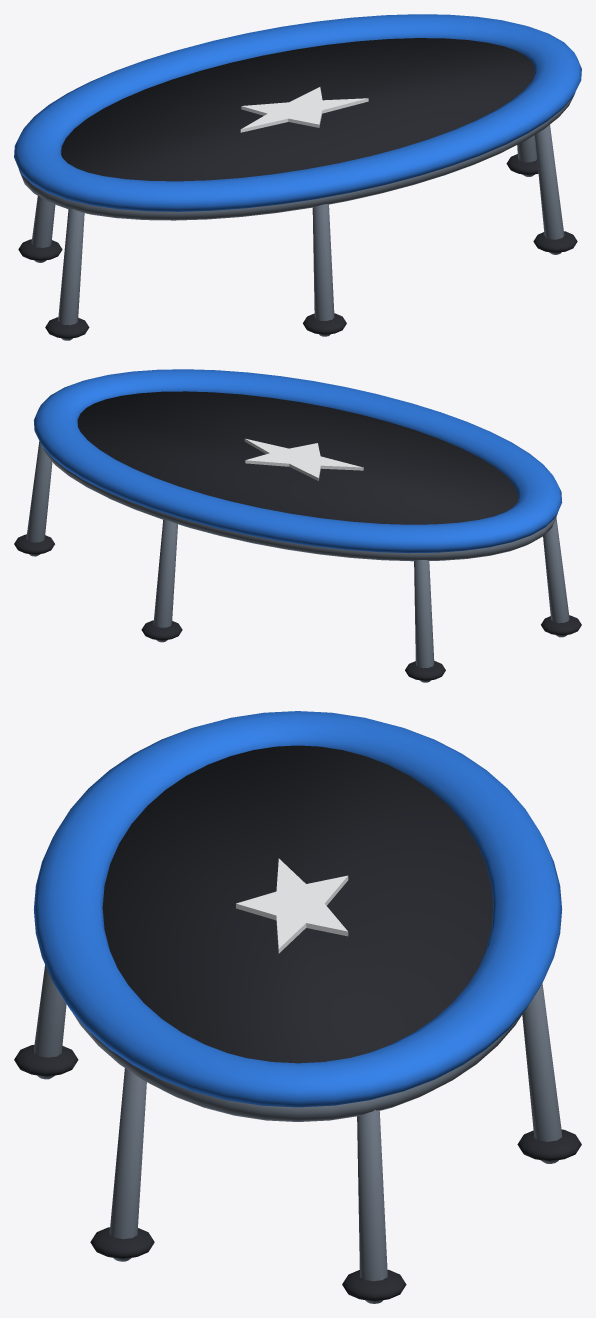
The model's file is trampoline.glb.
The picture shows the model from 3 angles, top to bottom: view 1: azimuth 30°, elevation 25°; view 2: azimuth 150°, elevation 25°; view 3: azimuth 270°, elevation 25°; orthographic projection. The views are drawn at different scales.
Visible parts, largest first — view 1: Frame, Bed; view 2: Frame, Bed; view 3: Bed, Frame.
Part boxes in pixels (bbox=[...]): Frame: bbox=[14, 14, 581, 340]; Bed: bbox=[61, 38, 534, 181]; Frame: bbox=[14, 369, 581, 682]; Bed: bbox=[77, 391, 518, 524]; Bed: bbox=[102, 745, 493, 1063]; Frame: bbox=[14, 711, 581, 1303].
Size of the model in its own units: 3.45 by 0.9362 by 2.11.
